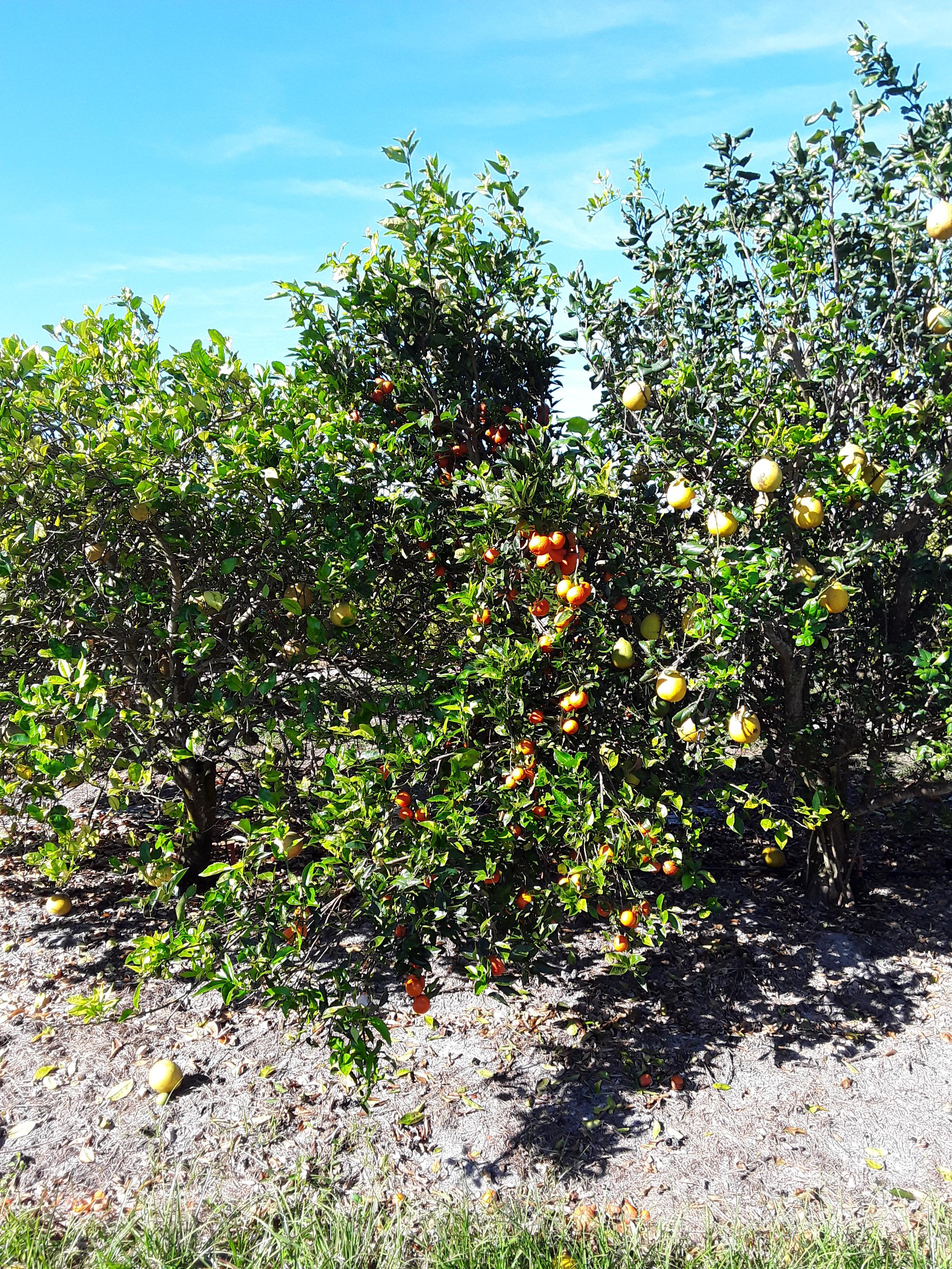fruit_on_ground: (789, 489, 827, 530), (725, 706, 763, 745), (747, 456, 784, 494), (858, 459, 893, 496), (834, 439, 869, 475), (924, 199, 952, 243), (679, 604, 714, 639), (900, 395, 935, 429), (653, 669, 688, 703), (704, 507, 740, 540), (281, 580, 317, 613), (817, 580, 851, 614), (786, 557, 821, 589), (619, 380, 652, 412), (192, 589, 227, 619), (922, 301, 952, 335), (327, 598, 359, 629), (607, 637, 637, 669), (665, 481, 695, 513), (58, 762, 88, 792), (835, 484, 866, 513), (275, 830, 304, 860), (674, 717, 704, 745), (759, 843, 789, 871), (639, 611, 667, 640), (552, 609, 582, 636), (279, 638, 308, 665), (140, 861, 167, 889), (645, 692, 674, 718), (154, 861, 181, 888), (82, 539, 111, 564), (281, 920, 308, 946), (402, 968, 428, 995), (492, 584, 521, 608), (634, 819, 662, 843), (553, 551, 581, 575), (628, 459, 653, 485), (565, 580, 591, 605), (505, 556, 531, 581), (602, 566, 629, 590), (590, 895, 615, 920), (483, 952, 506, 979), (597, 741, 620, 767), (511, 738, 537, 761), (545, 527, 569, 551), (128, 499, 151, 524), (578, 516, 604, 538), (478, 865, 502, 888), (607, 932, 631, 955), (527, 596, 551, 619), (409, 994, 434, 1016), (616, 905, 639, 928), (417, 869, 441, 891), (512, 889, 536, 911), (563, 869, 588, 890), (154, 655, 176, 678), (372, 760, 394, 783), (509, 763, 534, 783), (535, 631, 557, 653), (660, 856, 682, 878), (470, 605, 492, 627), (480, 545, 503, 566), (368, 386, 390, 407), (596, 841, 617, 863), (391, 789, 413, 810), (527, 534, 549, 555), (568, 688, 589, 709), (609, 594, 631, 614), (554, 578, 574, 600), (515, 518, 537, 538), (546, 544, 569, 563), (488, 426, 509, 446), (427, 416, 448, 436), (362, 437, 382, 458), (565, 542, 586, 562), (392, 801, 414, 820), (559, 717, 581, 736), (641, 855, 661, 875), (558, 693, 578, 713), (526, 708, 547, 727), (636, 897, 654, 919), (345, 407, 364, 426), (392, 921, 411, 940), (434, 450, 455, 467), (481, 423, 499, 442), (511, 416, 530, 434), (411, 804, 430, 822), (452, 442, 471, 460), (529, 803, 549, 820), (241, 729, 260, 746), (473, 399, 491, 416), (500, 773, 518, 790), (534, 553, 552, 570), (507, 822, 524, 839), (415, 535, 432, 552), (528, 787, 545, 803), (496, 423, 513, 439), (438, 470, 453, 488), (449, 534, 466, 549), (500, 400, 517, 415), (379, 379, 395, 394), (535, 411, 551, 426), (534, 402, 551, 416), (371, 376, 387, 390), (432, 563, 447, 577), (423, 550, 437, 564)
fruit_on_tree: (145, 1056, 185, 1097), (42, 890, 74, 919), (548, 1249, 578, 1269), (666, 1071, 688, 1093), (636, 1070, 654, 1089)
